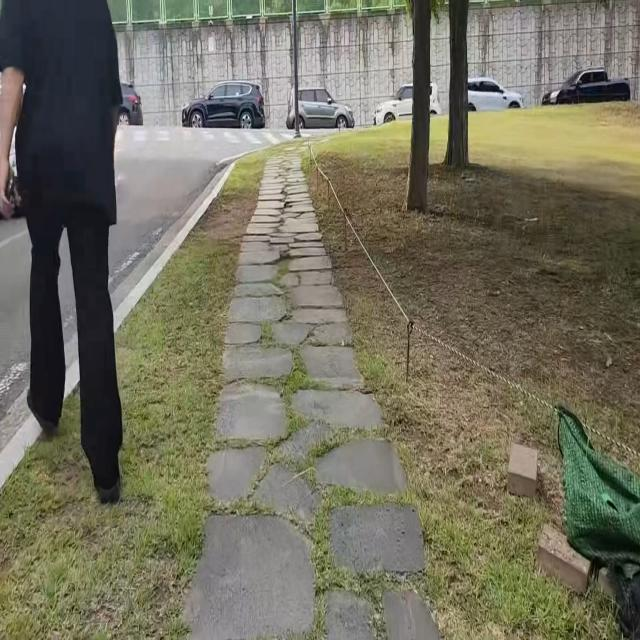obstacle: (0, 0, 128, 513), (525, 513, 598, 607), (179, 74, 269, 133), (490, 427, 545, 507), (282, 79, 360, 135)
road: (0, 129, 293, 450)
sidewalk: (189, 147, 444, 640)
